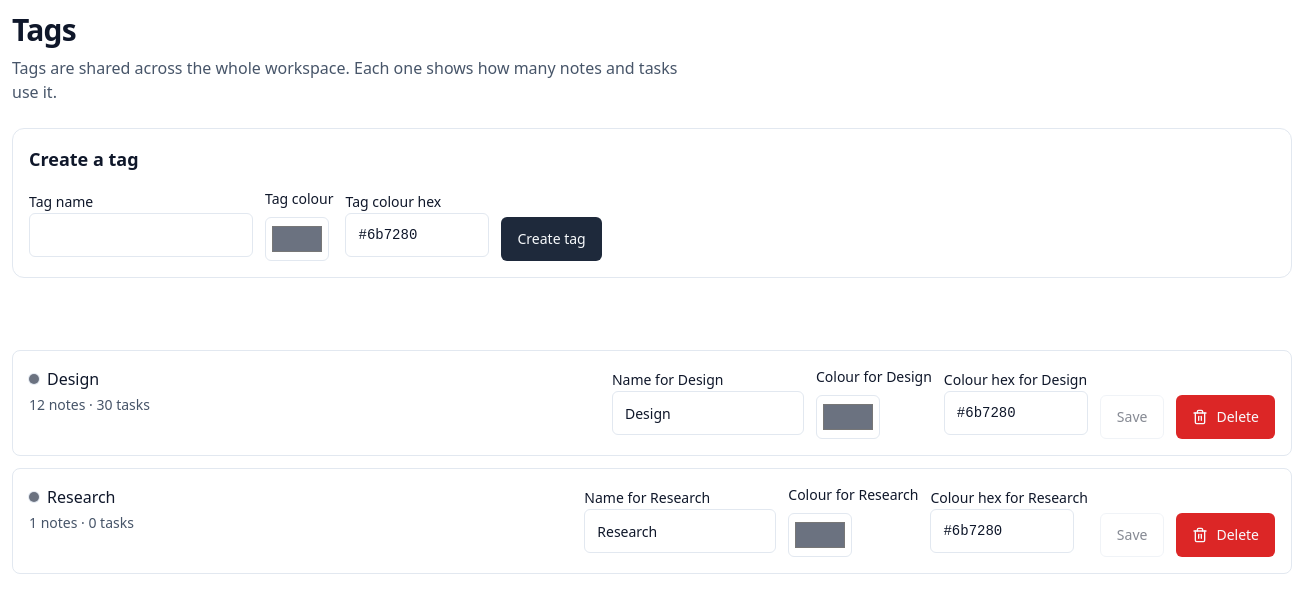
Test case: TagManager › rejects an invalid hex colour before sending any request
Type "Ops" into the field labelled "Tag name".
click(141, 235); type("Ops")  # box [29,213,253,257]
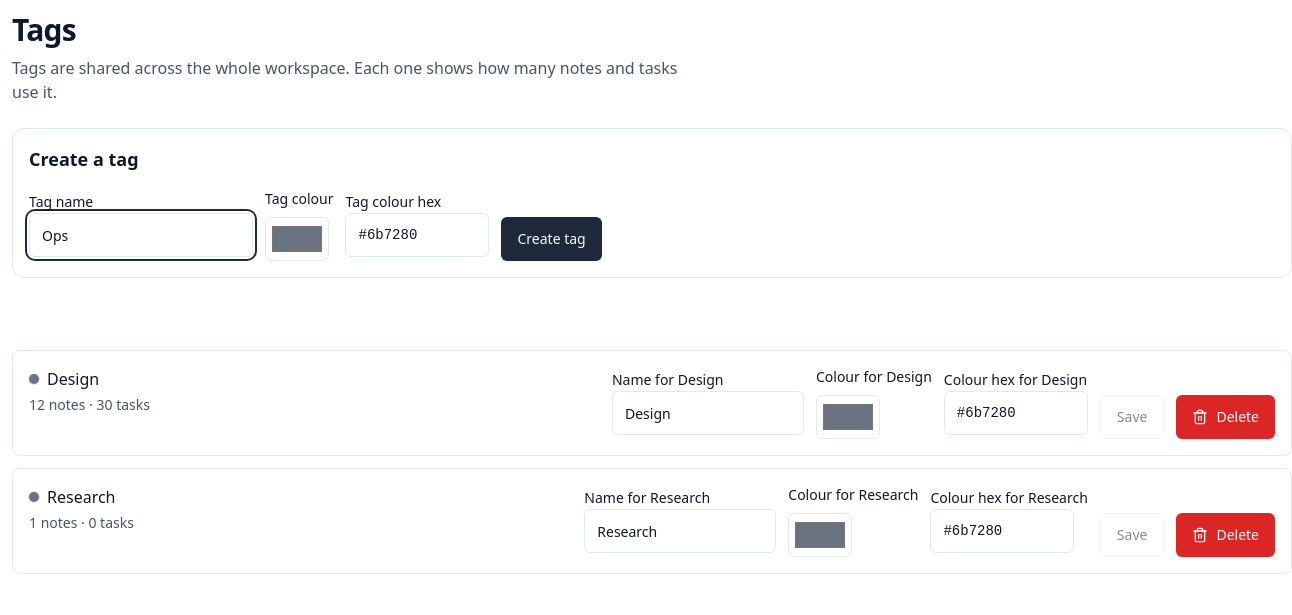
Replace the text in the field labelled "Tag colour hex" with "nope" at coordinates (418, 235), box [346,213,490,257]
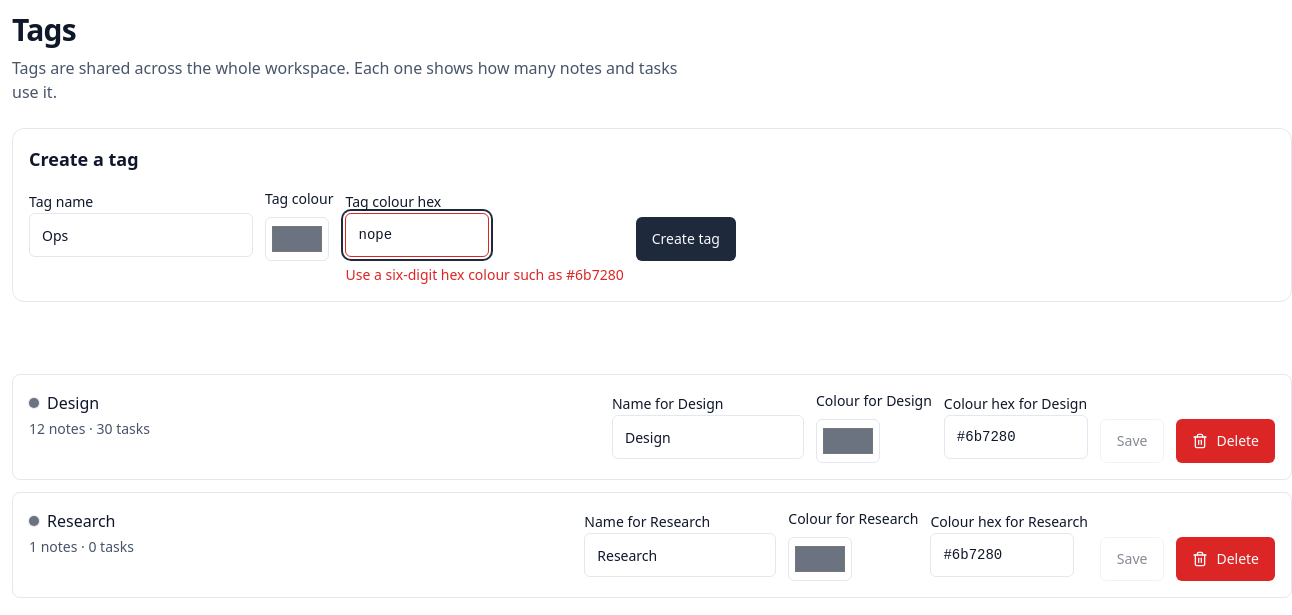
Click the button "Create tag".
click(686, 239)  # box [636,217,736,261]
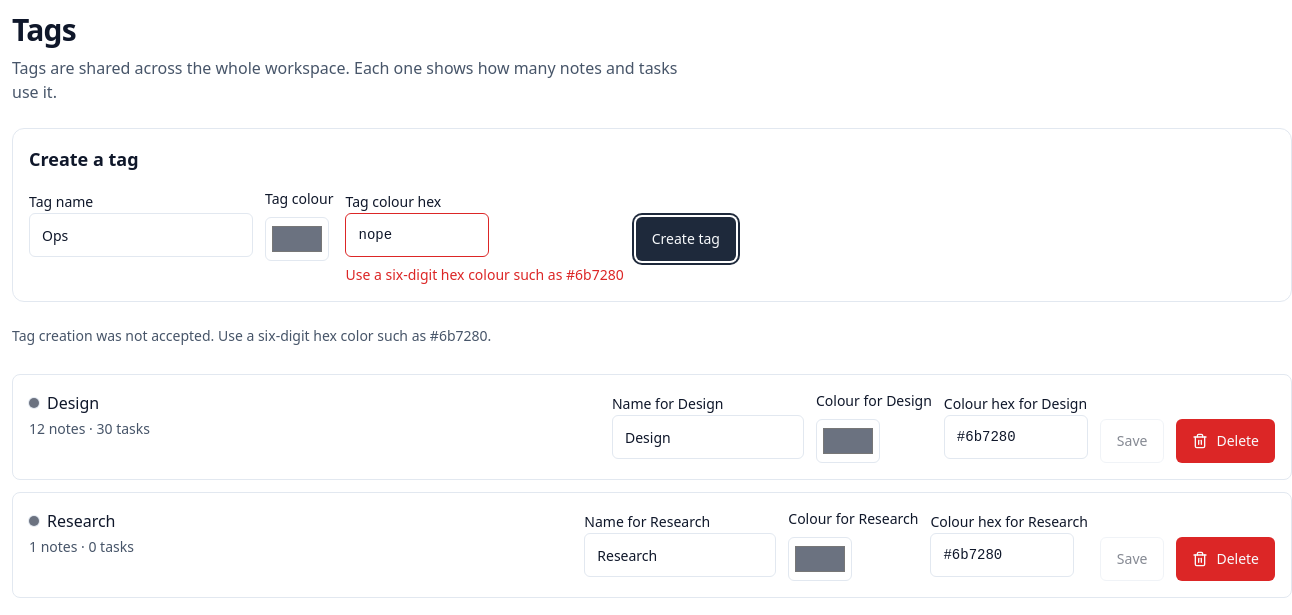
Expected: the message shows "six-digit hex", [12,326,491,345]
